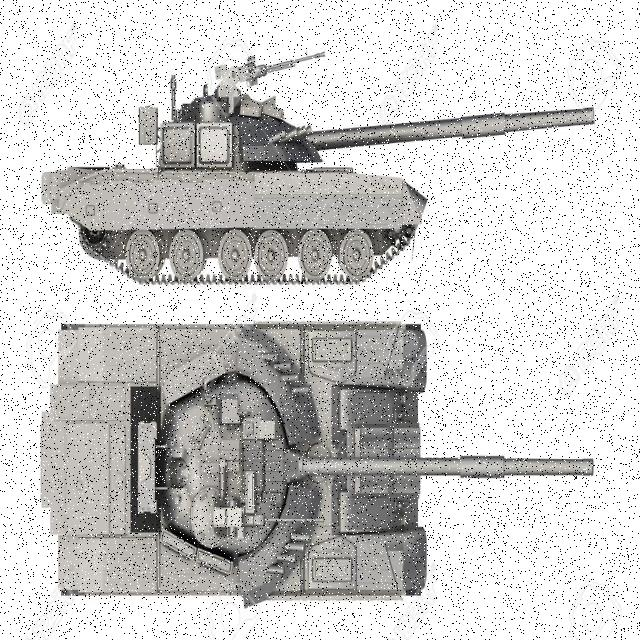MIL_MBT: (34, 320, 598, 597), (37, 40, 598, 286)
